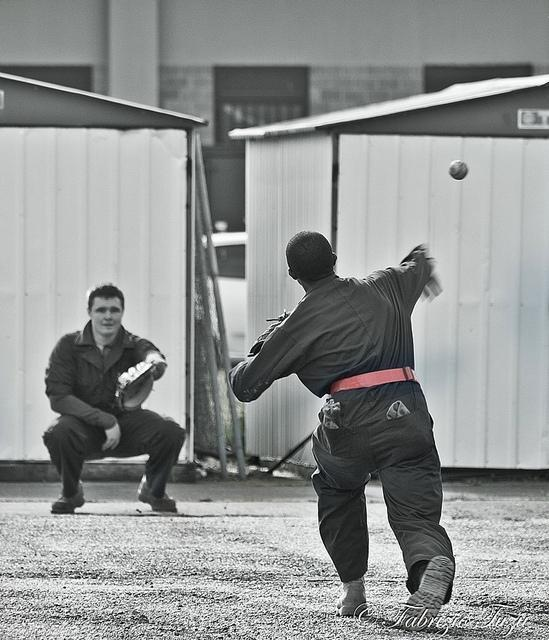car: (198, 230, 250, 365)
